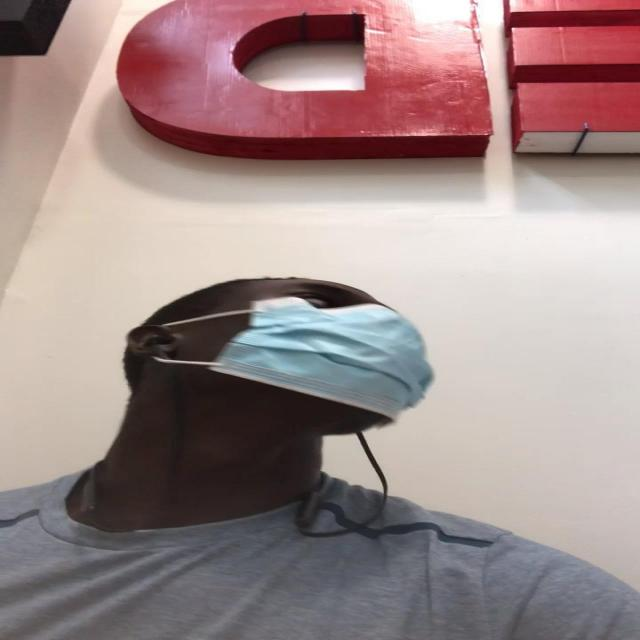face: (148, 278, 436, 436)
